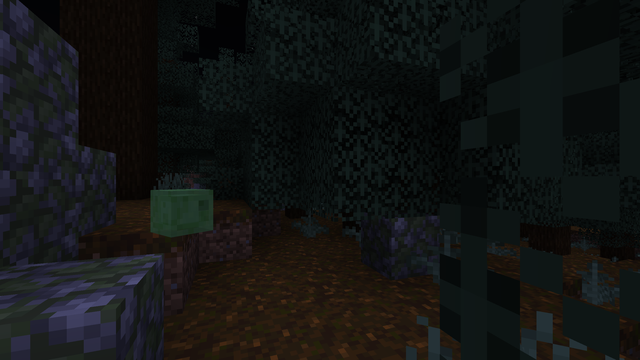slimes: (151, 187, 206, 236)
